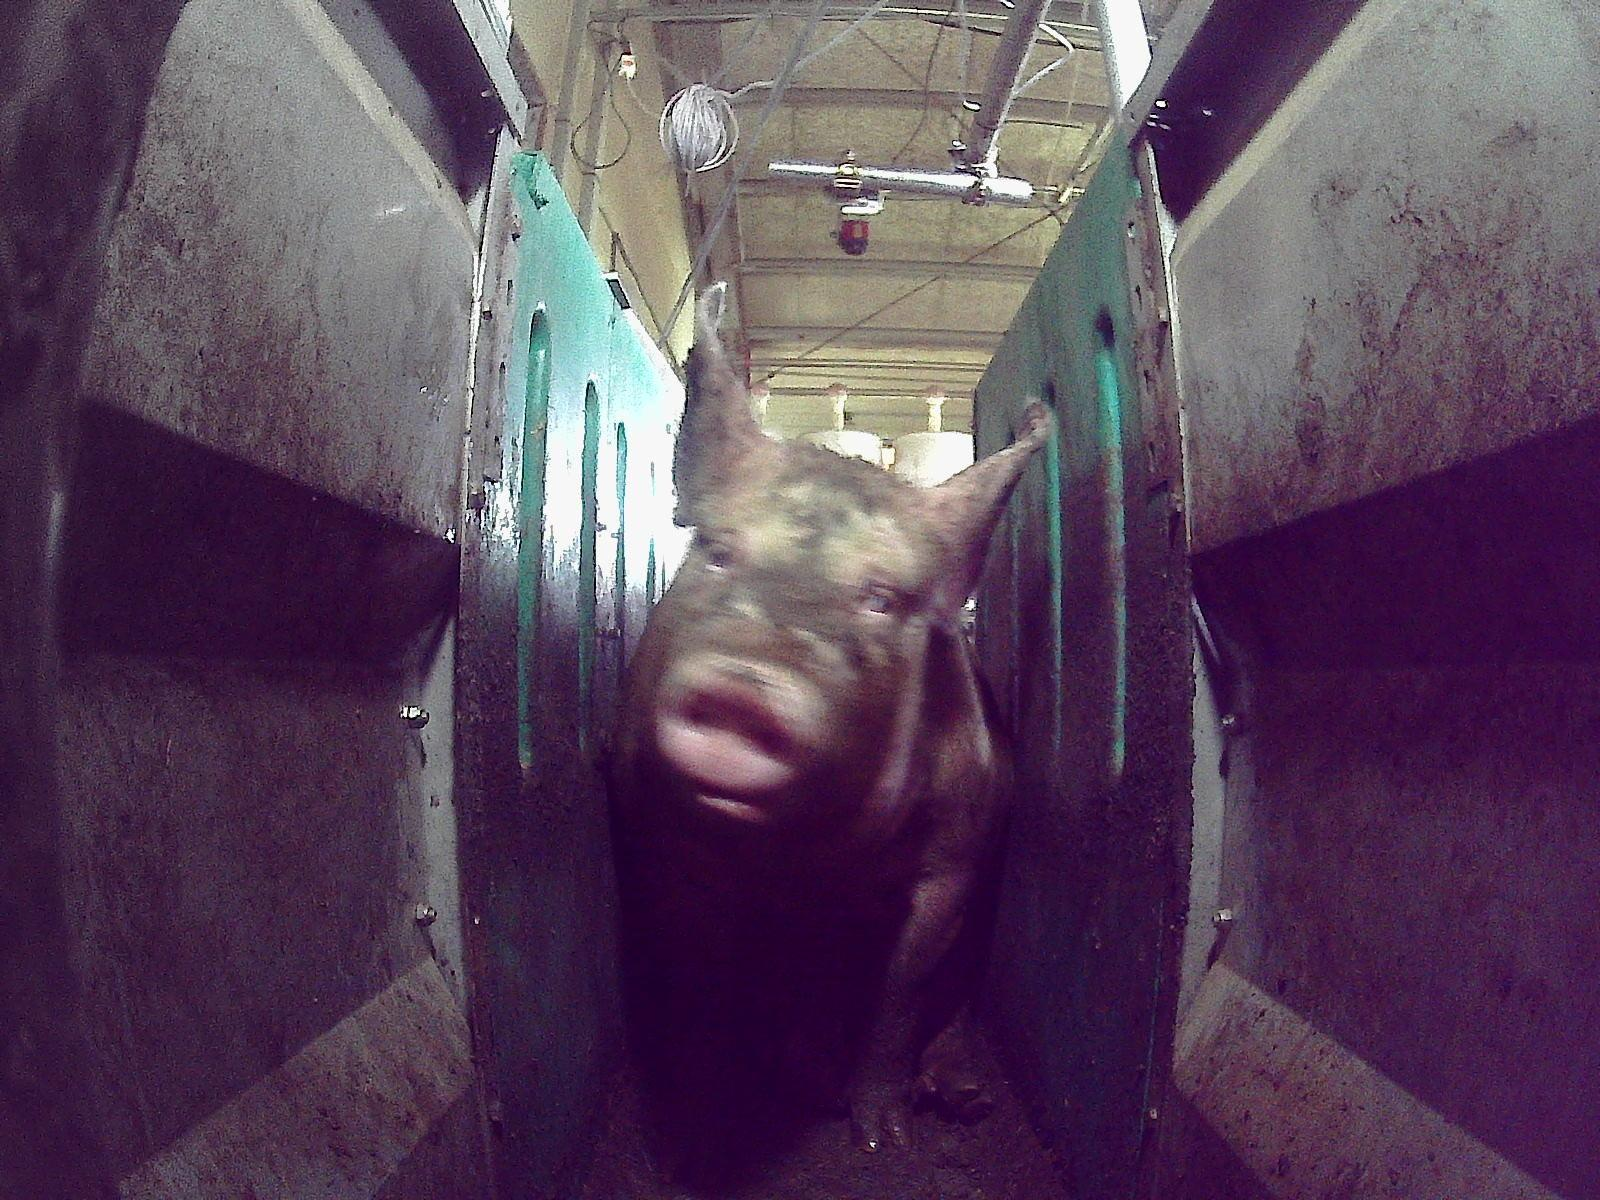Face: (632, 440, 946, 864)
